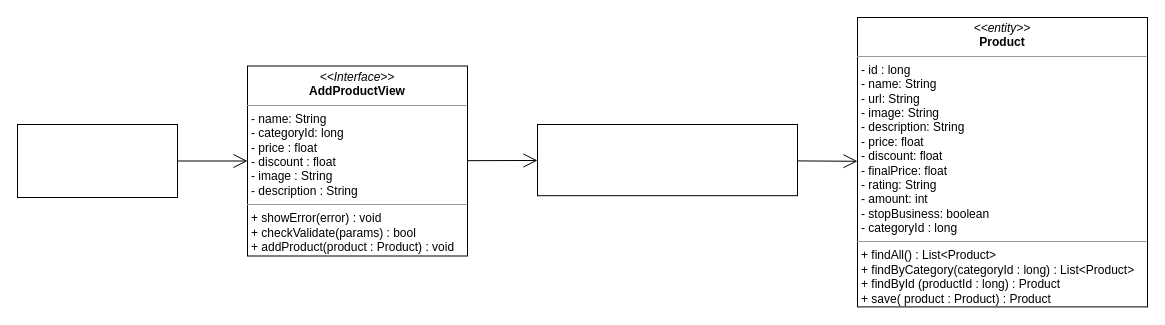
This 1165x325 diagram has some shape labels left out. The centre of each missing label's shape, as x and y in pixels:
"<<boundary>> ManagerProductsView + addProduct() : void" goes at pixel 97 161.
"<<control>> ProductController + addNewProduct(product : Product): boolean" goes at pixel 667 160.
